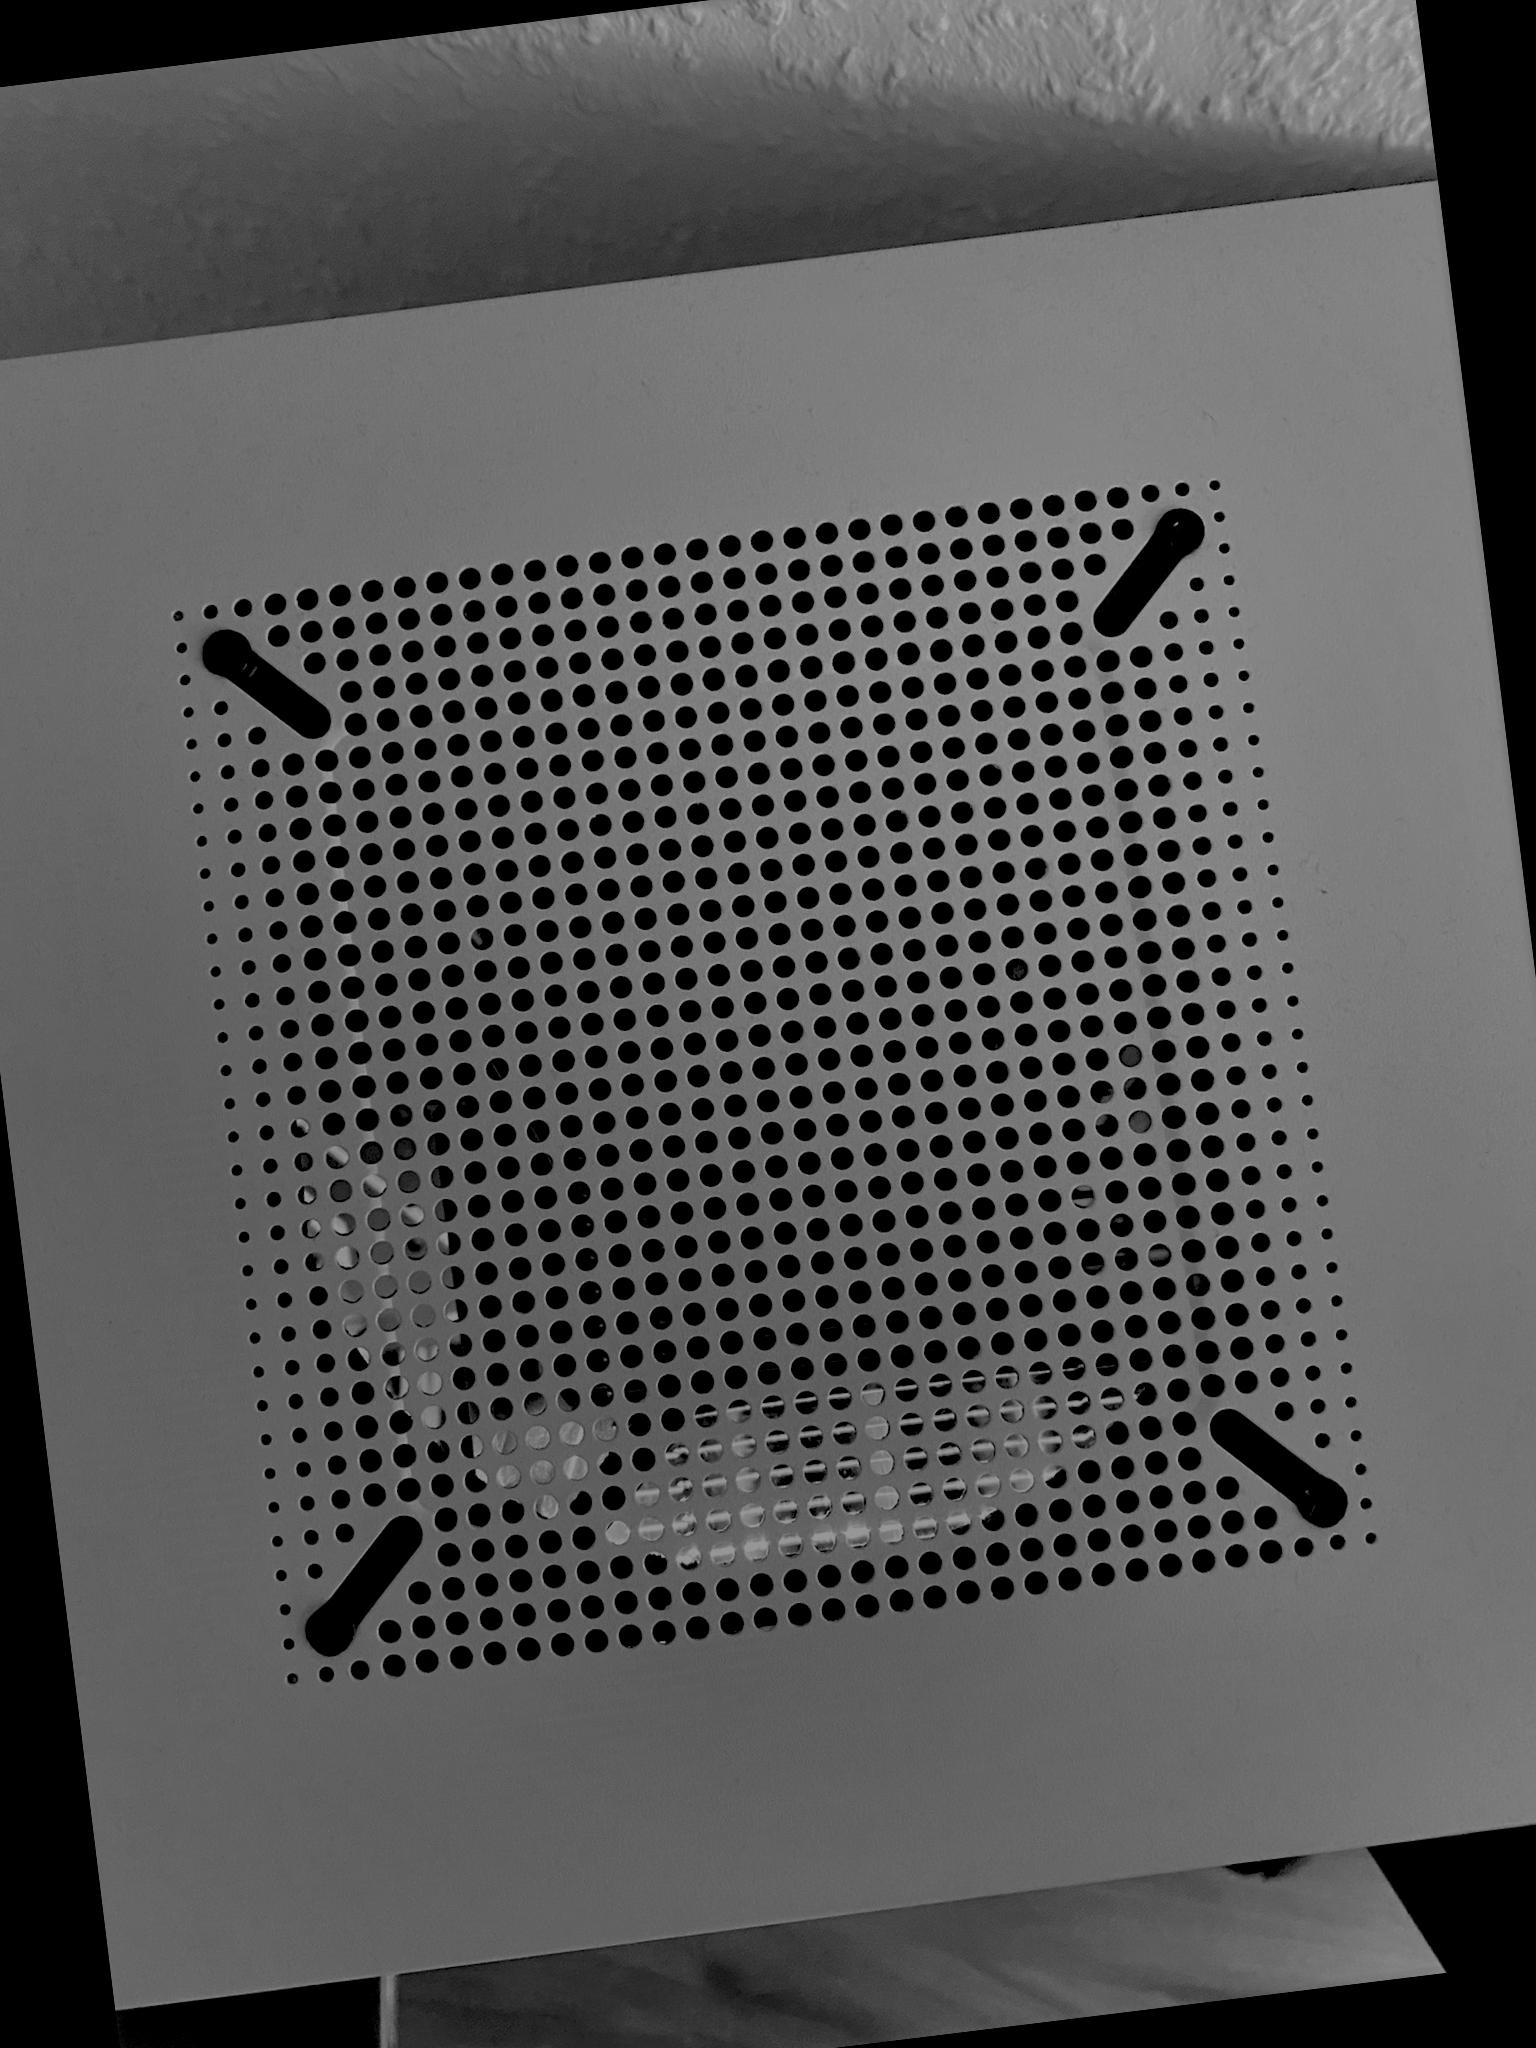philips-PZ: (1291, 1474, 1355, 1532), (197, 622, 252, 681), (1155, 502, 1210, 558)
